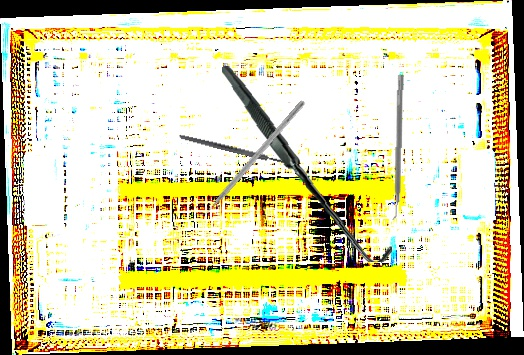Chopper: (191, 94, 306, 224)
Hook Surgical: (212, 65, 402, 264)
Scalpel Handle: (178, 133, 288, 166)
Spatula Surgical: (388, 74, 404, 221)
